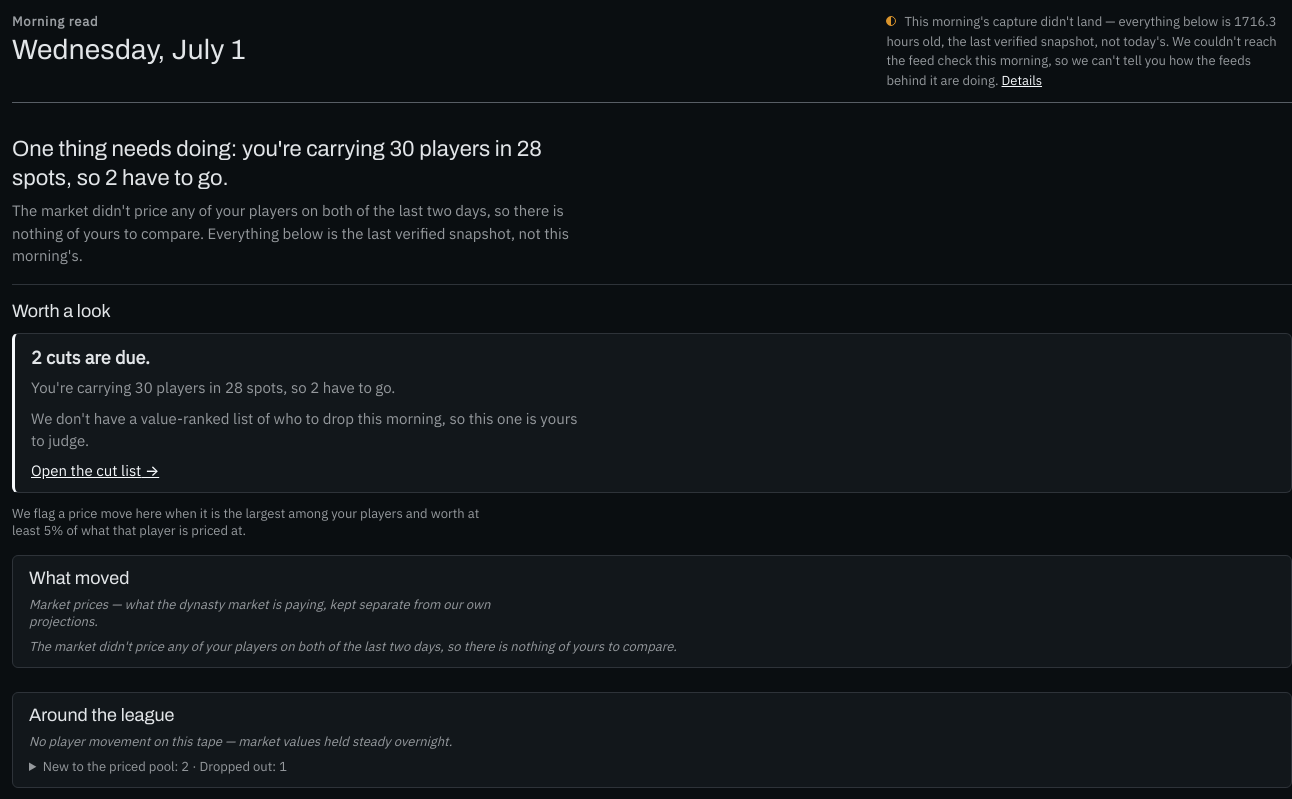
Test case: DailyWhatChanged › handles sparse real-shape rows and model windows without hiding identity or vintage dates
The image size is (1292, 799).
Click the button with test id "wc-health-sheet-toggle": click(1022, 80) [1002, 70, 1042, 90]
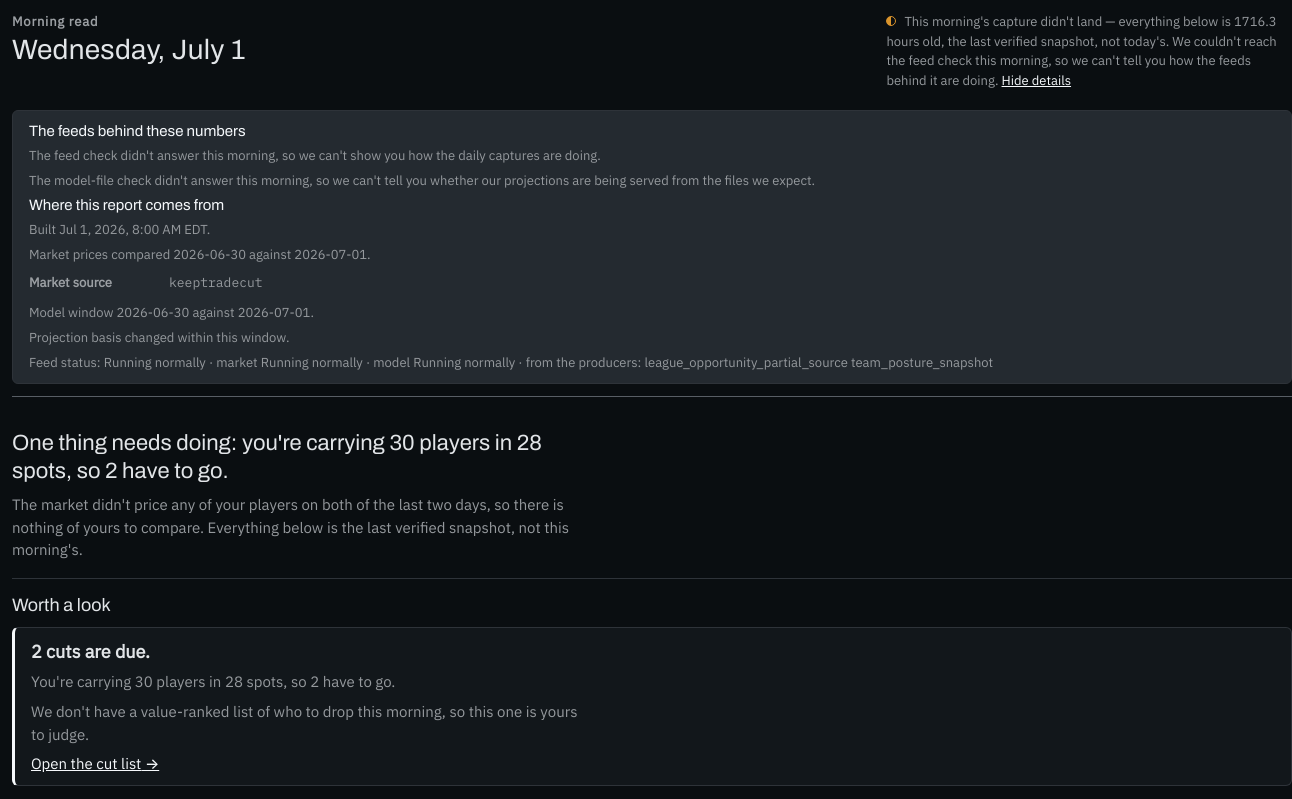
Now the text "Model window 2026-06-30 against 2026-07-01." is shown, box [29, 304, 314, 321]
